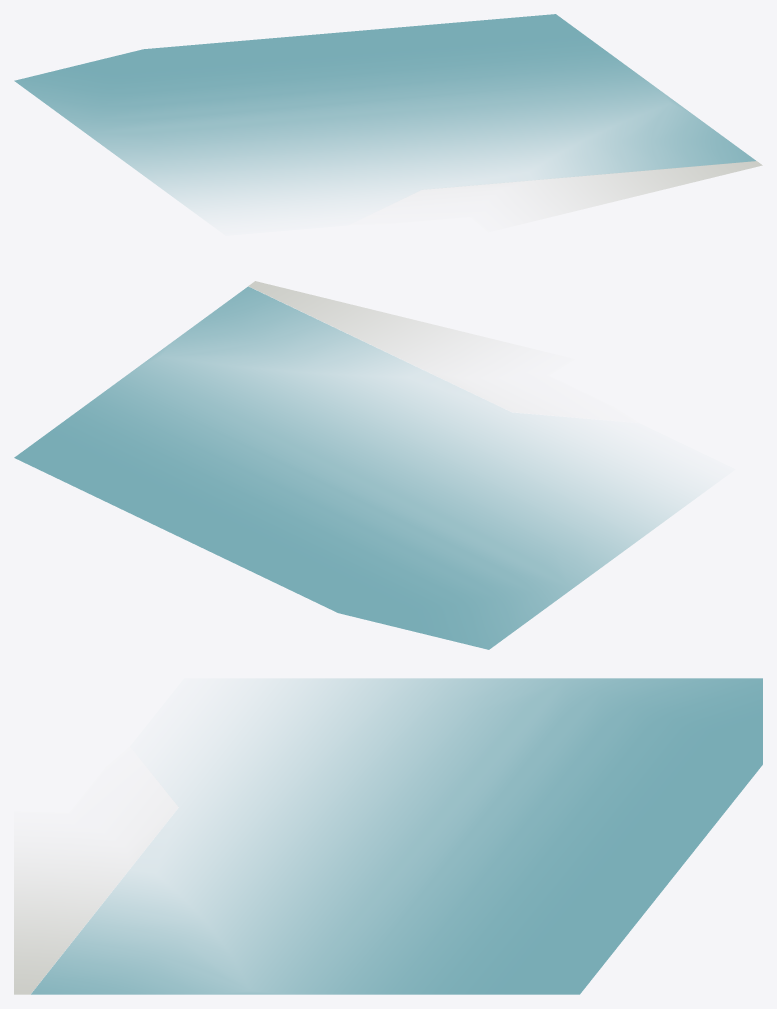
The picture shows the model from 3 angles, top to bottom: view 1: azimuth 30°, elevation 25°; view 2: azimuth 150°, elevation 25°; view 3: azimuth 270°, elevation 25°; orthographic projection. The views are drawn at different scales.
Visible parts, largest first — view 1: city; view 2: city; view 3: city.
Part boxes in pixels (x1,y1,x2,y2): city: (14,14,762,217); city: (14,281,694,649); city: (14,678,762,994).
Size of the model in its own units: 500 by 0.18 by 500.
